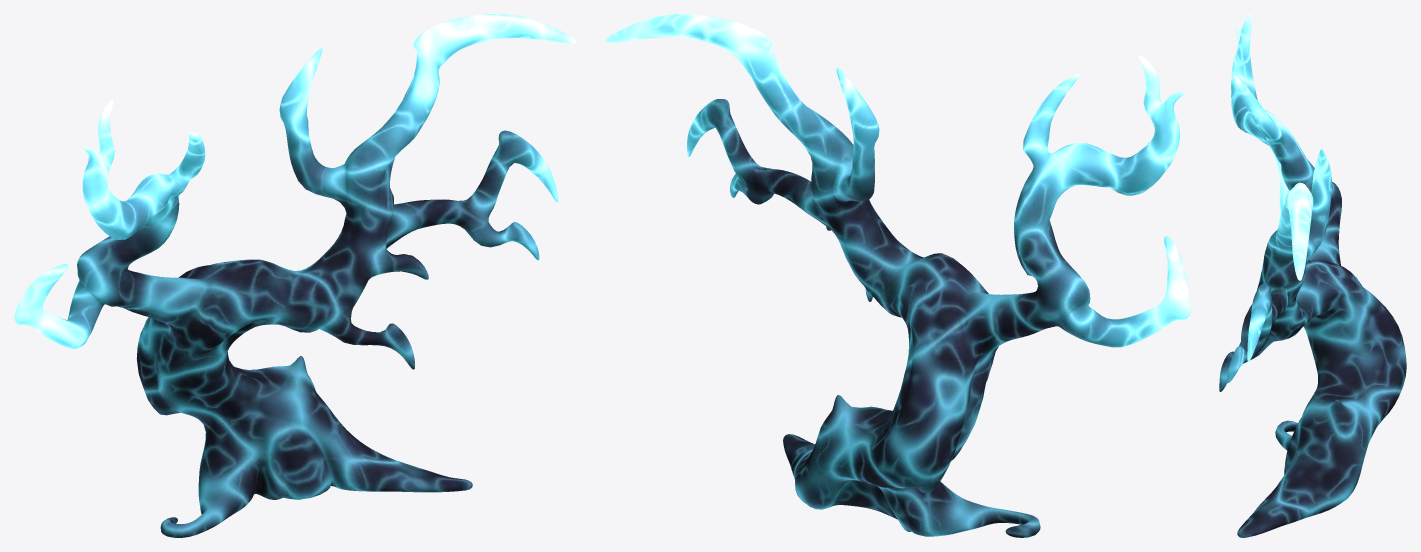
Rendered from caos_sts_clawplant_01a_v35.glb.
3 renders of one model, left to right at view 1: azimuth 30°, elevation 25°; view 2: azimuth 150°, elevation 25°; view 3: azimuth 270°, elevation 25°, orthographic. The views are drawn at different scales.
Parts seen in each view (by area): view 1: caos_sts_clawplant_01a; view 2: caos_sts_clawplant_01a; view 3: caos_sts_clawplant_01a.
Part boxes in pixels (<box>): caos_sts_clawplant_01a: <box>14,14,576,537</box>; caos_sts_clawplant_01a: <box>605,14,1190,537</box>; caos_sts_clawplant_01a: <box>1219,14,1406,537</box>.
Size of the model in its own units: 7.58 by 6.03 by 2.66.
Materials: 1 (1 with a texture image).
